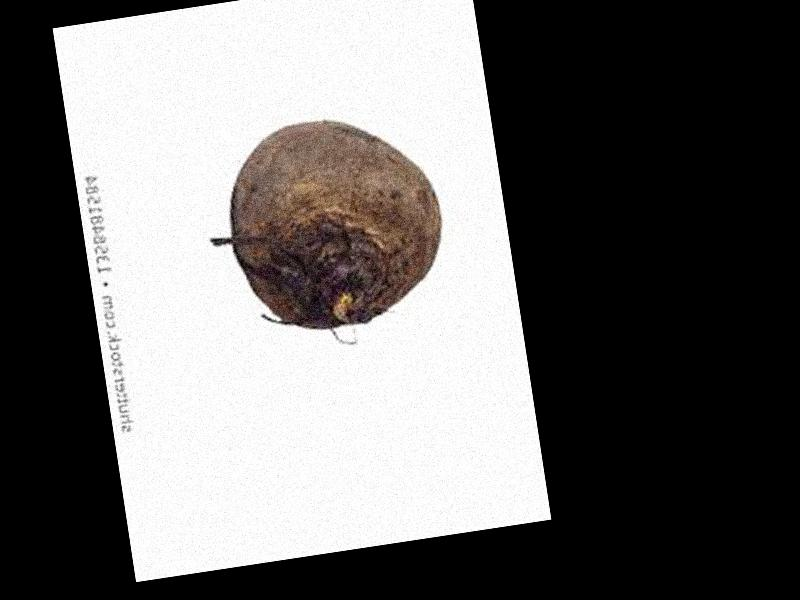Beet: (217, 102, 454, 338)
